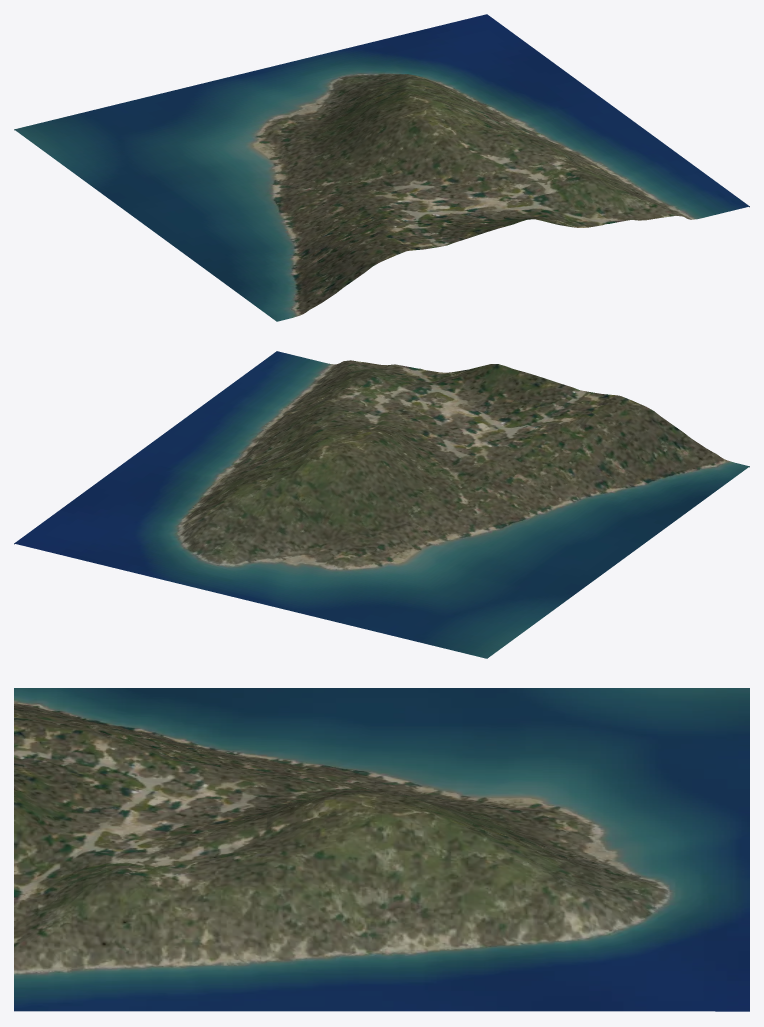
The picture shows the model from 3 angles, top to bottom: view 1: azimuth 30°, elevation 25°; view 2: azimuth 150°, elevation 25°; view 3: azimuth 270°, elevation 25°; orthographic projection. The views are drawn at different scales.
Bounding box in the file's own units: 500 × 52.41 × 481.
Materials: 1 (1 with a texture image).
